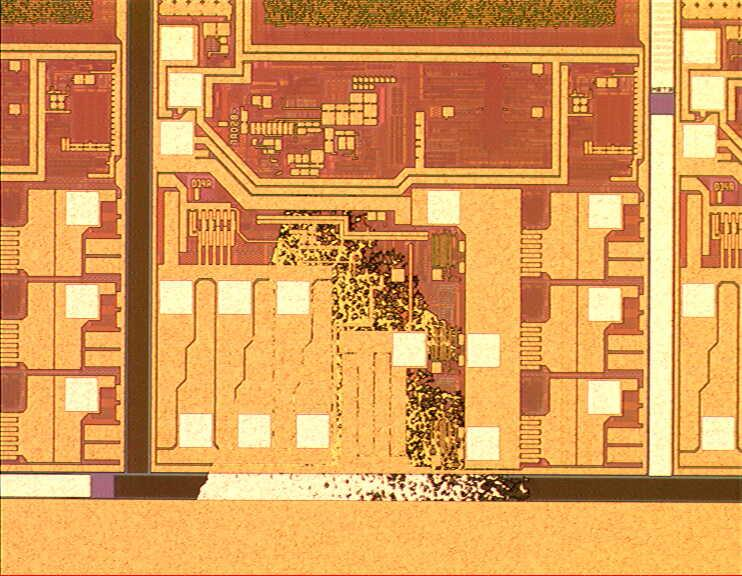BLOCK ETCH: (193, 194, 539, 503)
